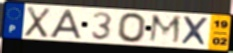3: (90, 11, 115, 41)
A: (48, 8, 84, 40)
M: (146, 13, 183, 47)
O: (117, 12, 148, 44)
X: (179, 15, 210, 48), (23, 5, 53, 39)
